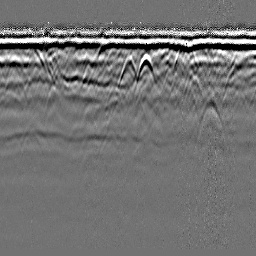cavity: (117, 53, 137, 90)
